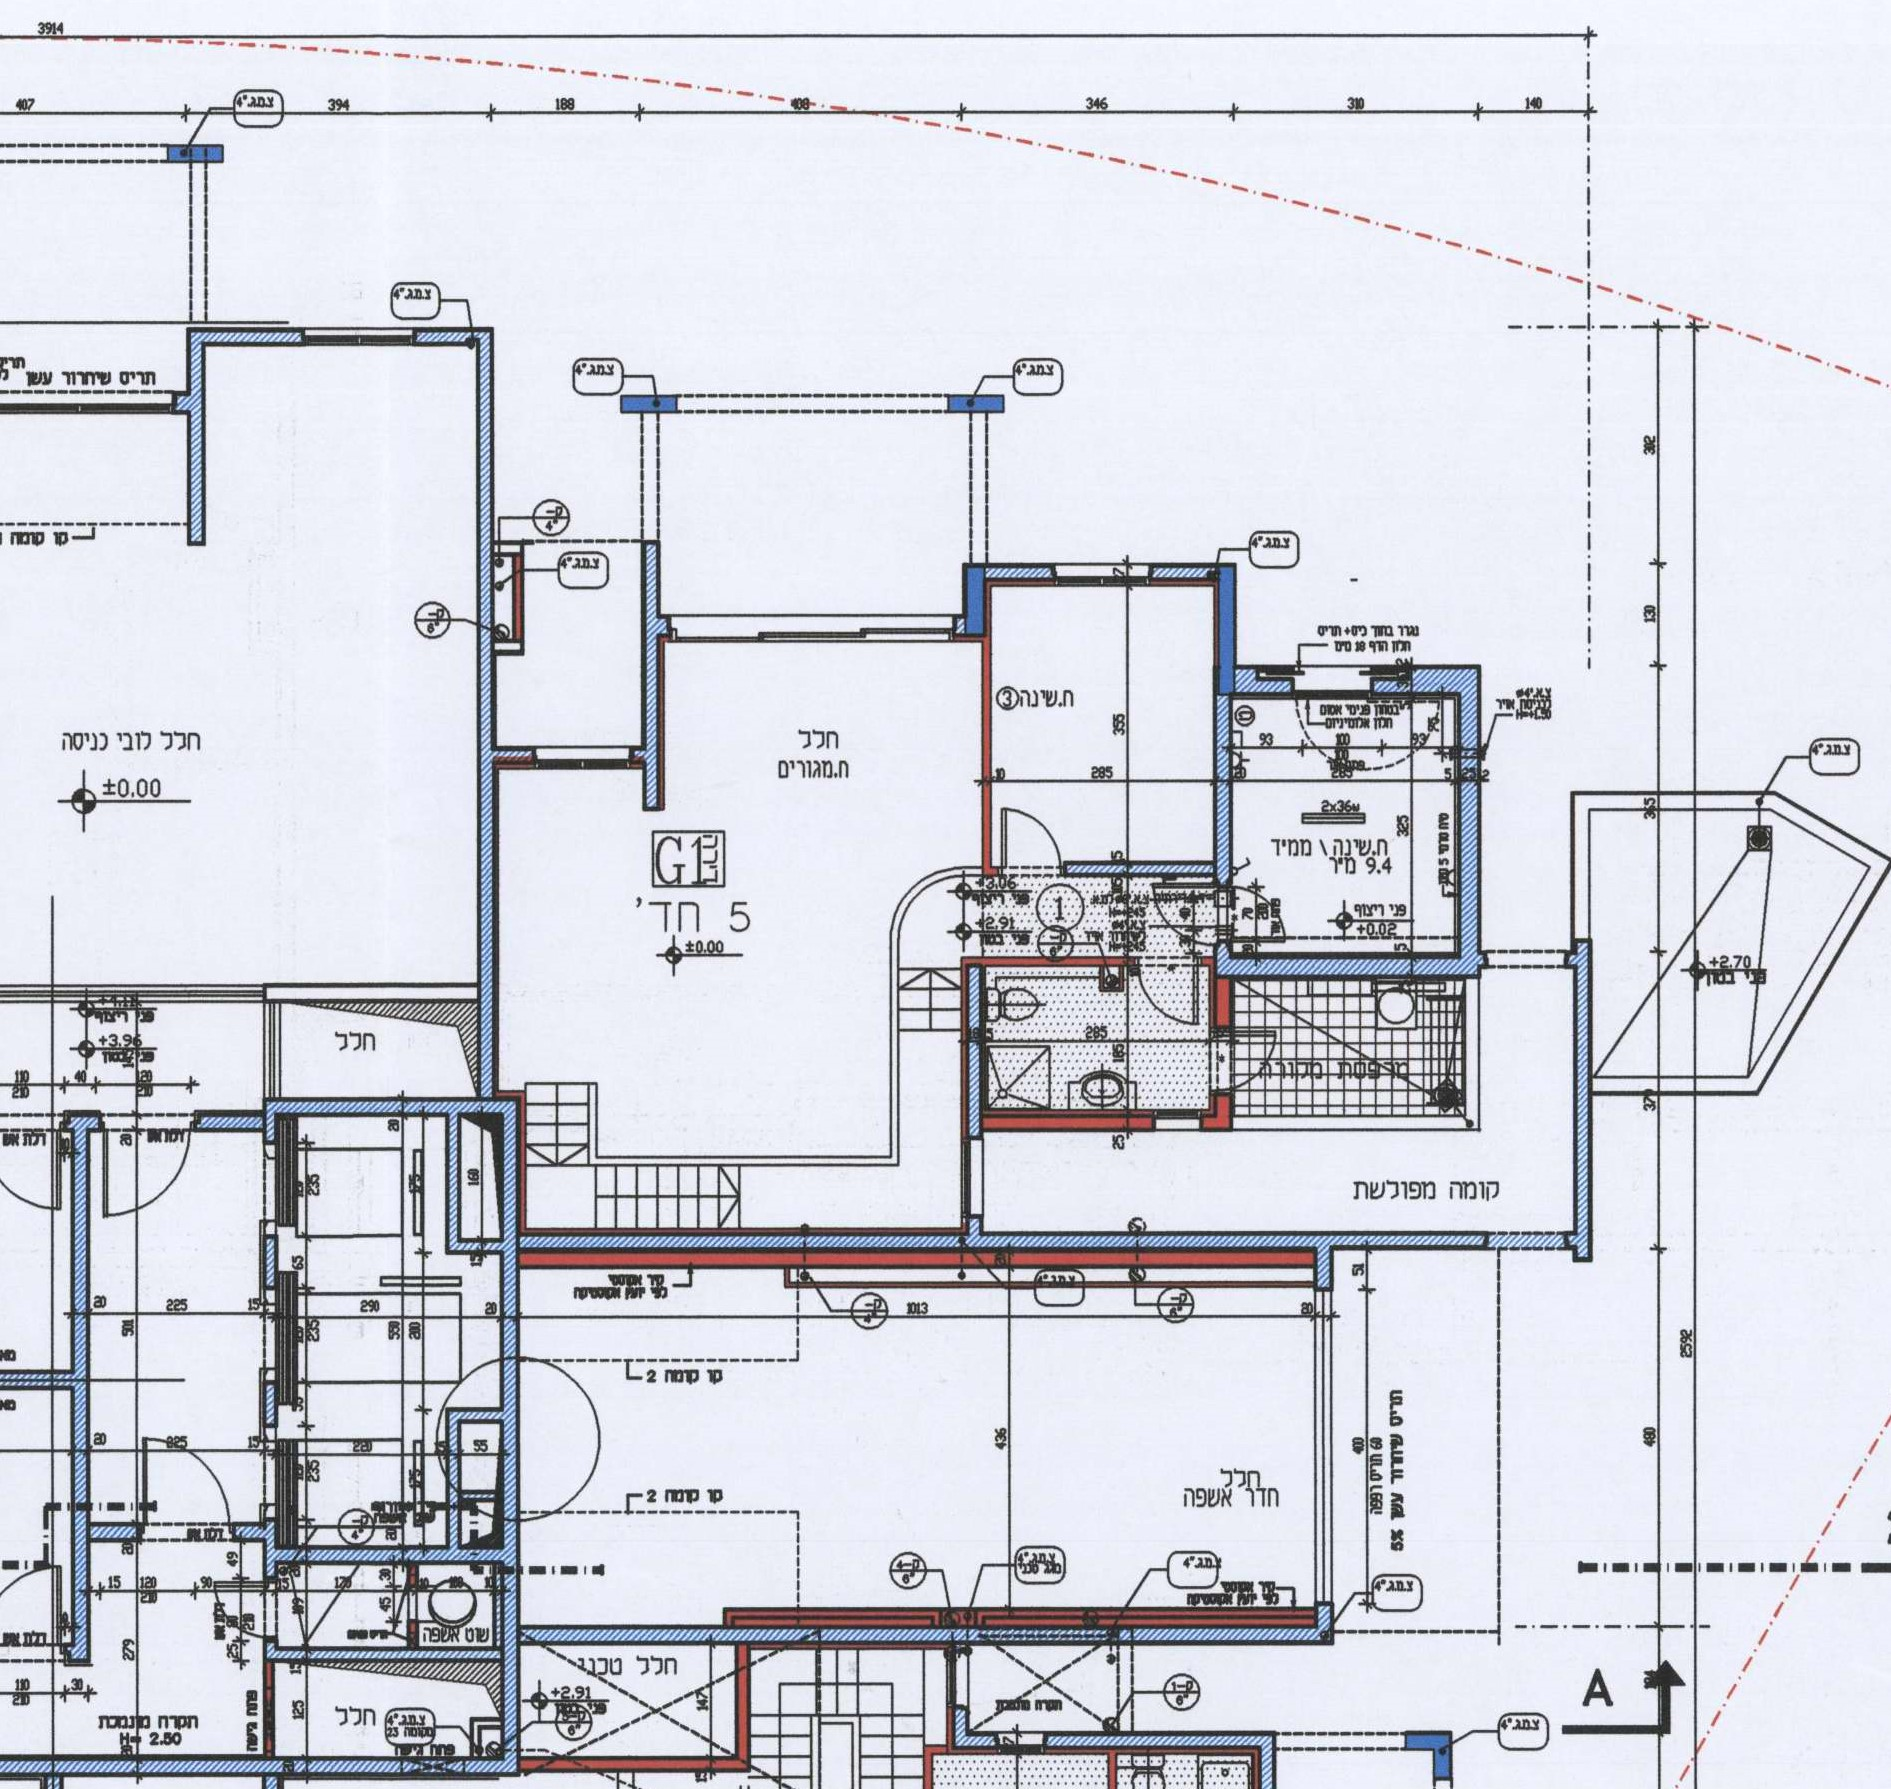door: (138, 1426, 234, 1527), (94, 1128, 197, 1221), (995, 800, 1062, 873)
wall: (477, 330, 498, 1096), (74, 1132, 87, 1660), (970, 1234, 1572, 1246), (1215, 953, 1481, 977), (1575, 940, 1592, 1259)
window: (1314, 1290, 1330, 1601)
